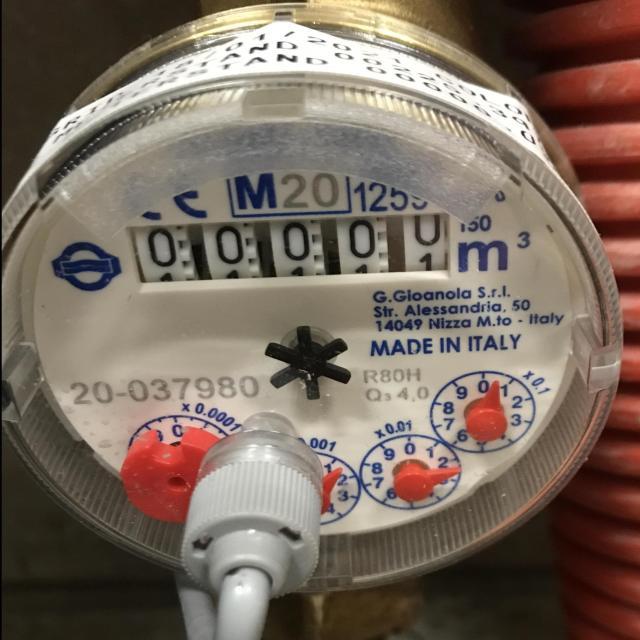gaz_meter: (16, 95, 575, 543)
indication: (130, 213, 449, 284)
